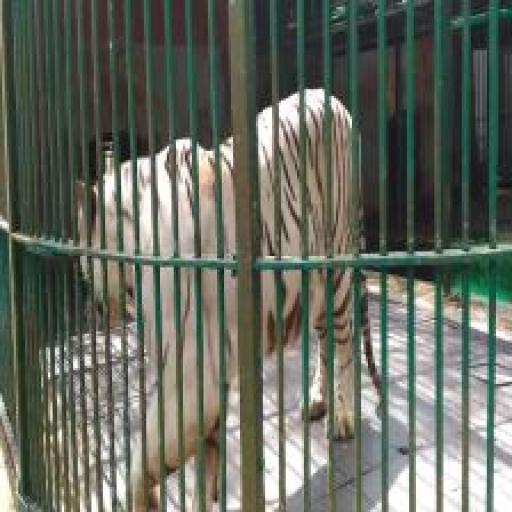Tiger: (66, 75, 409, 512)
